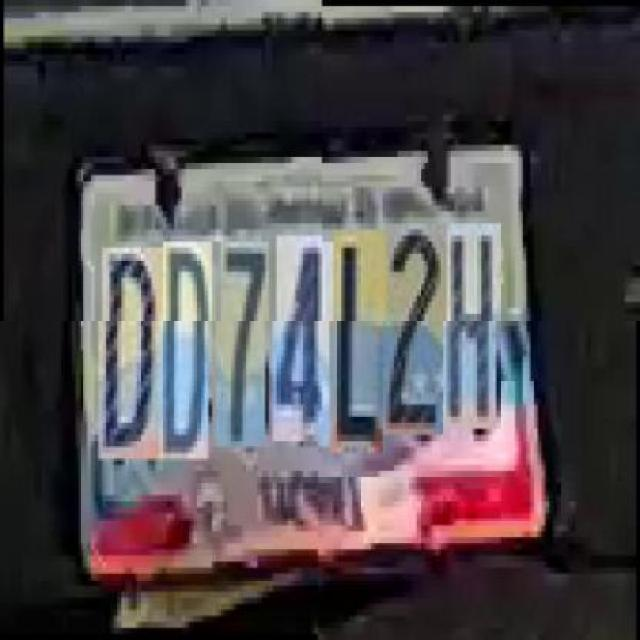2: (385, 223, 447, 434)
4: (276, 241, 333, 447)
7: (220, 247, 269, 453)
d: (102, 253, 162, 464), (163, 247, 212, 465)
h: (447, 224, 501, 428)
l: (333, 229, 387, 453)
